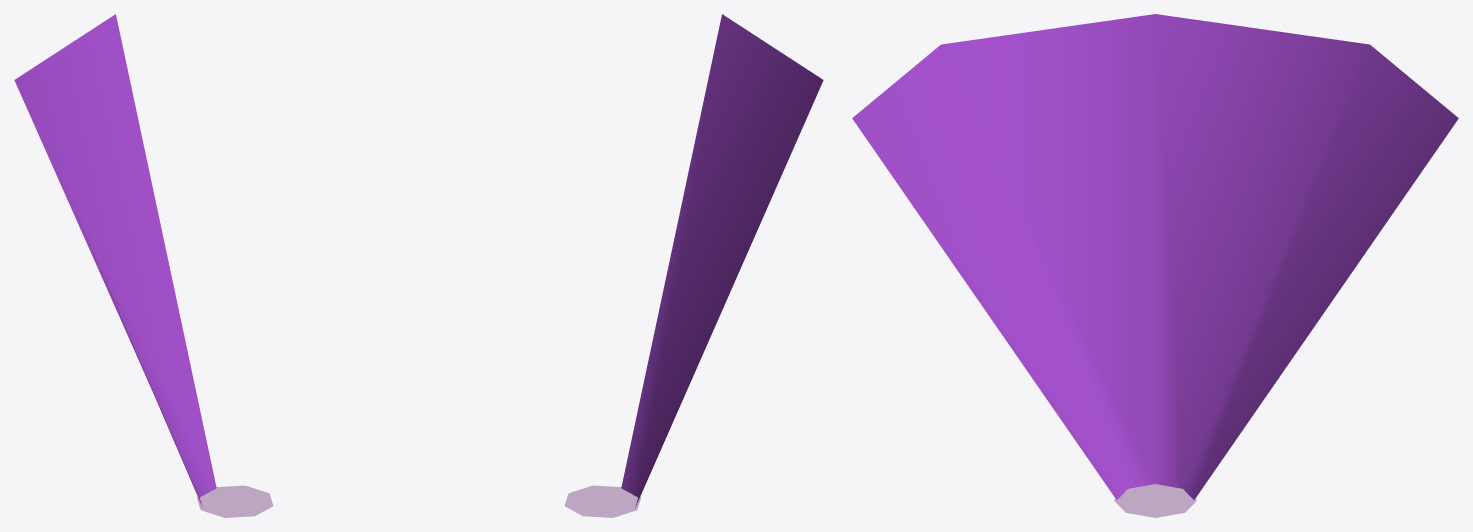
File: PartySubFloodLightPurple_frame03.glb
3 renders of one model, left to right at view 1: azimuth 30°, elevation 25°; view 2: azimuth 150°, elevation 25°; view 3: azimuth 270°, elevation 25°, orthographic. The views are drawn at different scales.
Visible parts, largest first — view 1: PartySubFloodLightPurple_frame03; view 2: PartySubFloodLightPurple_frame03; view 3: PartySubFloodLightPurple_frame03.
Boxes of the visible parts, x1,y1,x2,y2 form: PartySubFloodLightPurple_frame03: (14, 14, 273, 517); PartySubFloodLightPurple_frame03: (564, 14, 823, 517); PartySubFloodLightPurple_frame03: (852, 14, 1458, 517).
Size of the model in its own units: 0.9091 by 1.54 by 2.14.
